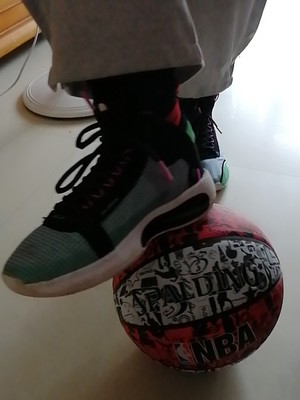ball: (111, 200, 285, 374)
